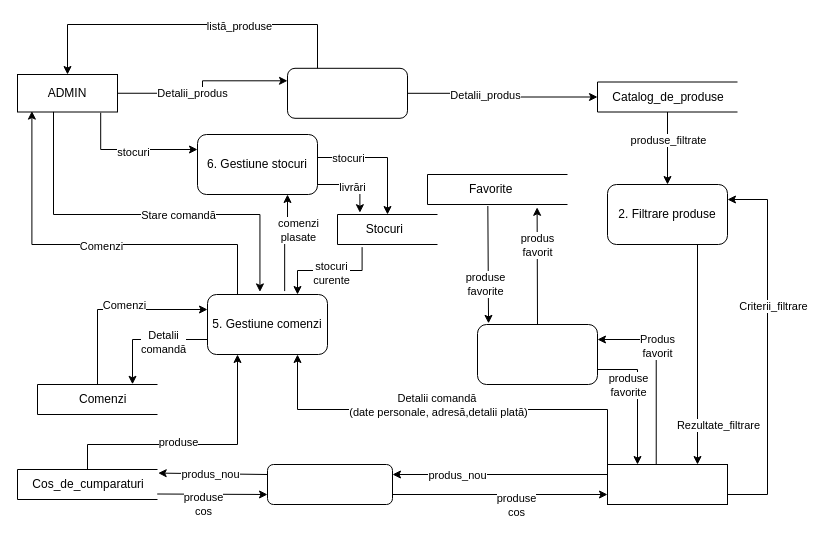
Image size: 824x535. Some labels were removed from this diagram. The shapes that lost their labels are listed below. From the top down, each one's box as (x1, y1, x2, y2) in pixels, then its label:
(286, 67, 408, 118): 1. Gestionare catalog_produse
(476, 324, 598, 384): 3. Gestiune produse_favorite
(266, 464, 392, 504): 4. Gestiune cos_de_cumpaărături
(606, 464, 728, 504): USER
